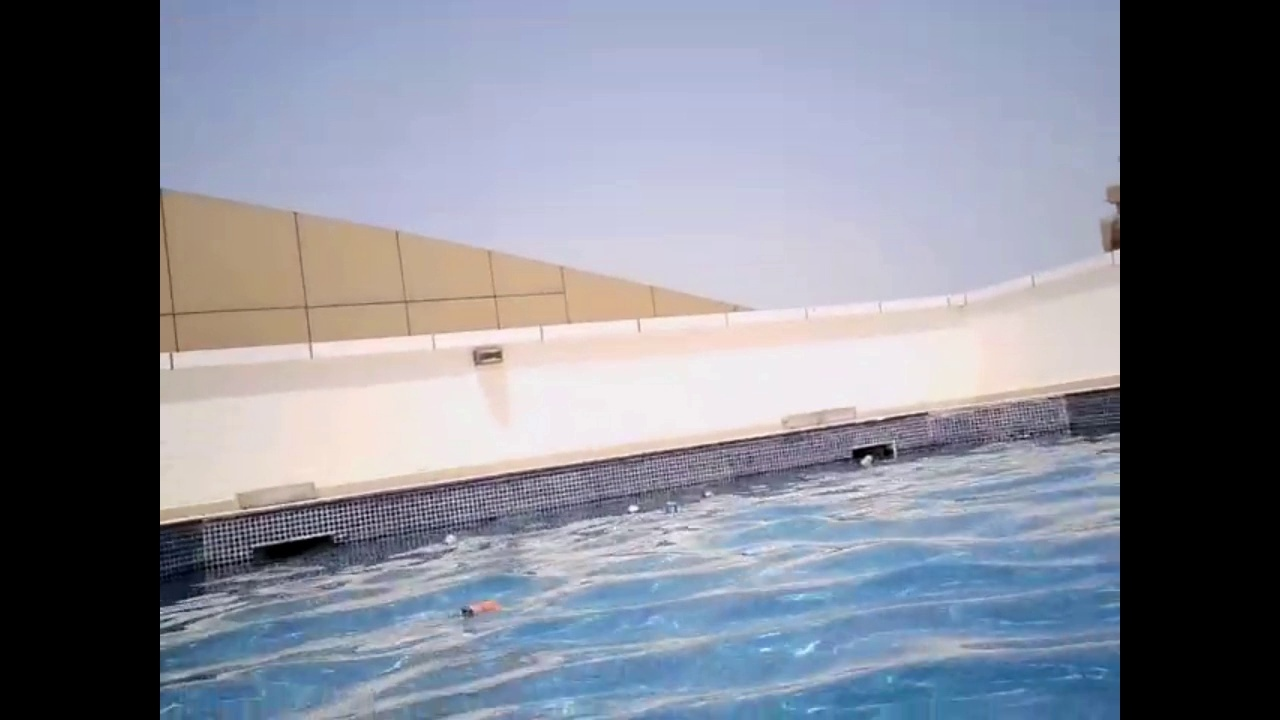debris: (456, 599, 502, 629), (438, 528, 459, 551), (696, 483, 718, 503), (661, 498, 680, 519), (621, 501, 642, 518), (858, 451, 874, 469)
